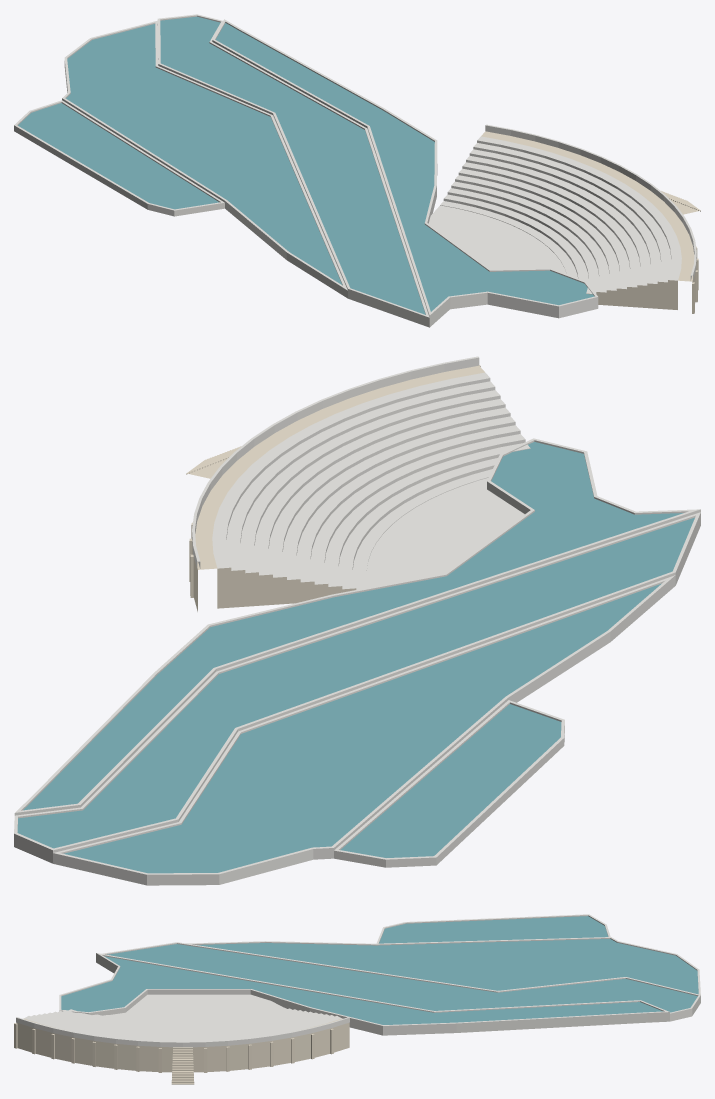
Rendered from Amphitheatre_Pond.fbx.
3 views of the same model, one above another, from view 1: azimuth 30°, elevation 25°; view 2: azimuth 150°, elevation 25°; view 3: azimuth 270°, elevation 25° (orthographic). The views are drawn at different scales.
Parts seen in each view (by area): view 1: Amphitheatre_Pond; view 2: Amphitheatre_Pond; view 3: Amphitheatre_Pond.
Boxes of the visible parts, <box> form: Amphitheatre_Pond: <box>14,14,700,327</box>; Amphitheatre_Pond: <box>14,356,700,885</box>; Amphitheatre_Pond: <box>14,914,700,1084</box>.
Bounding box in the file's own units: 67.9 × 5.66 × 117.
